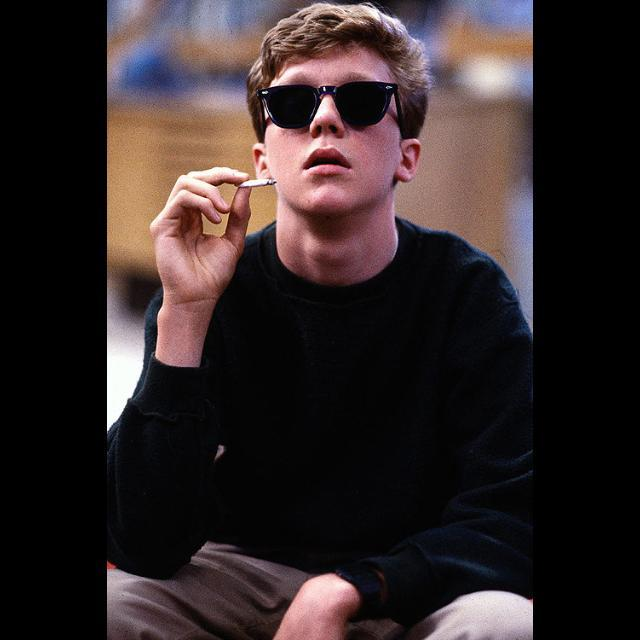rokok: (230, 174, 276, 192)
